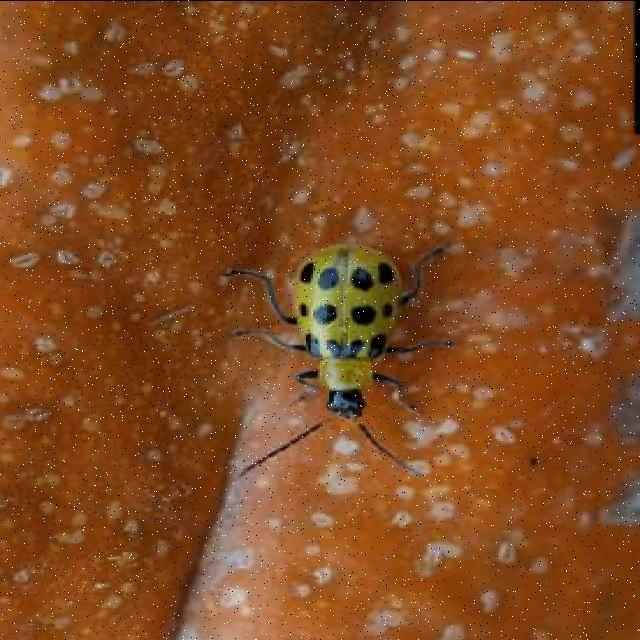gusano_verde: (220, 193, 478, 489)
